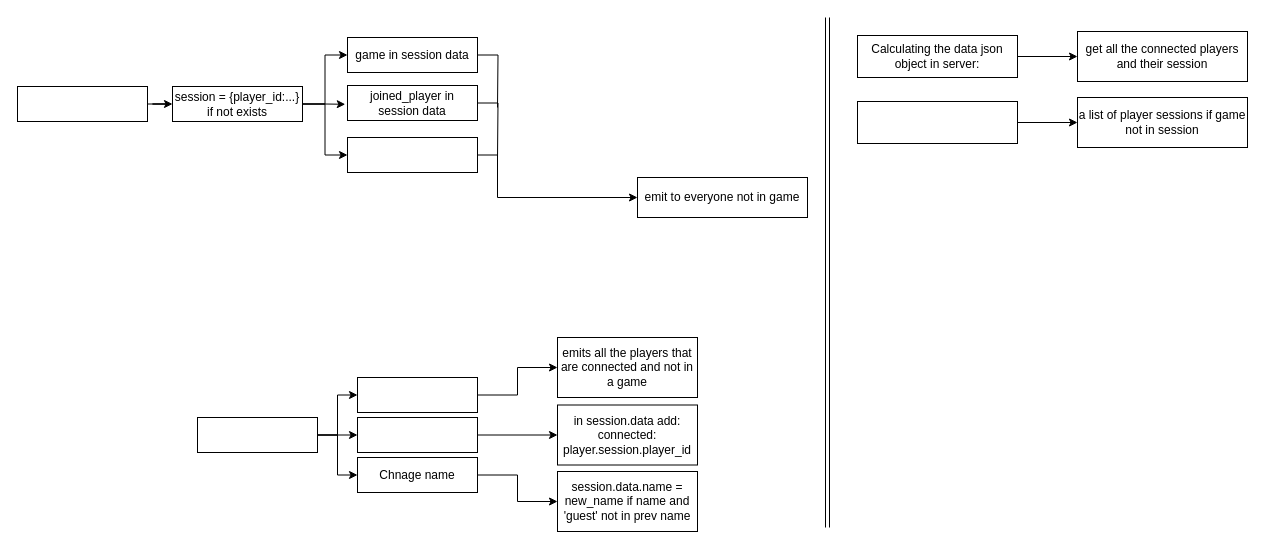
Image size: 1265x549. Some labels were removed from this diagram. The centre of each missing label's shape, as x and y in pixels:
join a player: (x=417, y=434)
Load all the players: (x=417, y=394)
none of above: (x=412, y=154)
Player connects: (x=82, y=104)
Player events: (x=257, y=434)
whay we emit to players in lobby:: (x=937, y=122)
